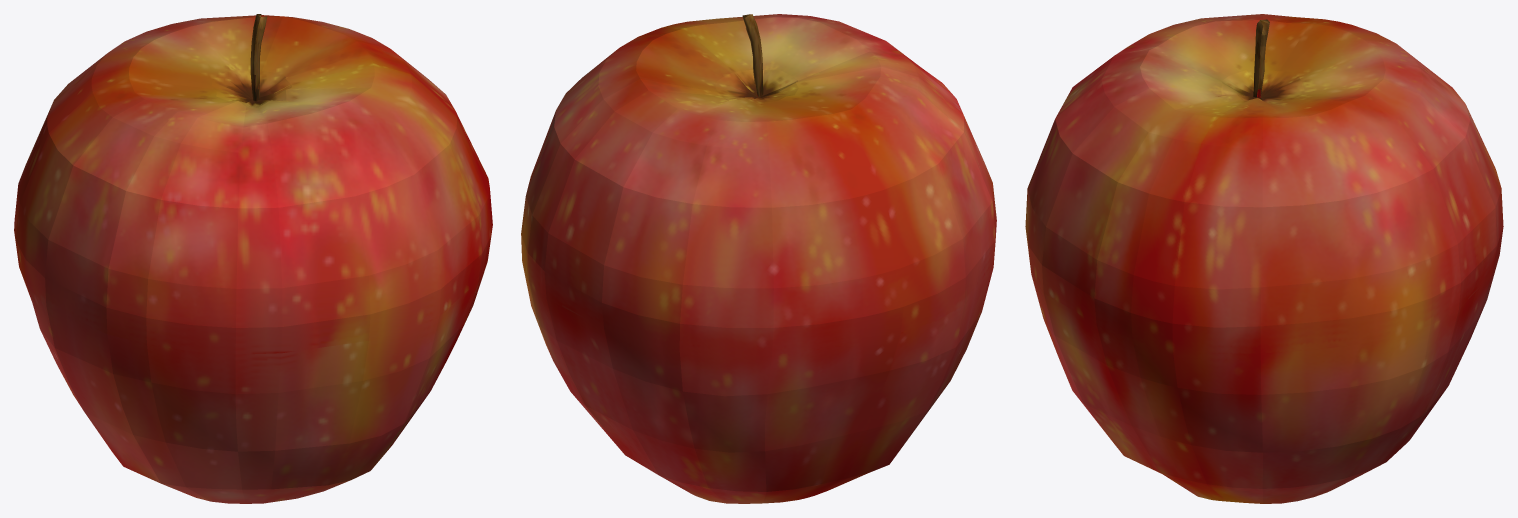
File: apple.obj
3 views of the same model, side by side, from view 1: azimuth 30°, elevation 25°; view 2: azimuth 150°, elevation 25°; view 3: azimuth 270°, elevation 25° (orthographic).
Visible parts, largest first — view 1: apple:Mesh; view 2: apple:Mesh; view 3: apple:Mesh.
Boxes of the visible parts, box(x1,y1,x2,y2) form: apple:Mesh: box(14, 14, 492, 503); apple:Mesh: box(521, 14, 996, 503); apple:Mesh: box(1025, 14, 1503, 503).
Size of the model in its own units: 1.97 by 2.11 by 1.98.
2 materials, 2 textured.
